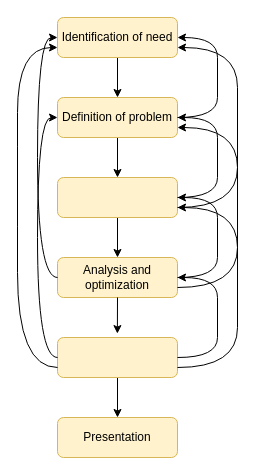
Some shapes in this 255 by 475 pixel diagram are drawn without their labels. The centre of each missing label's shape, as x and y in pixels:
"Evaluation" goes at point 117,357.
"Synthesis" goes at point 117,197.
